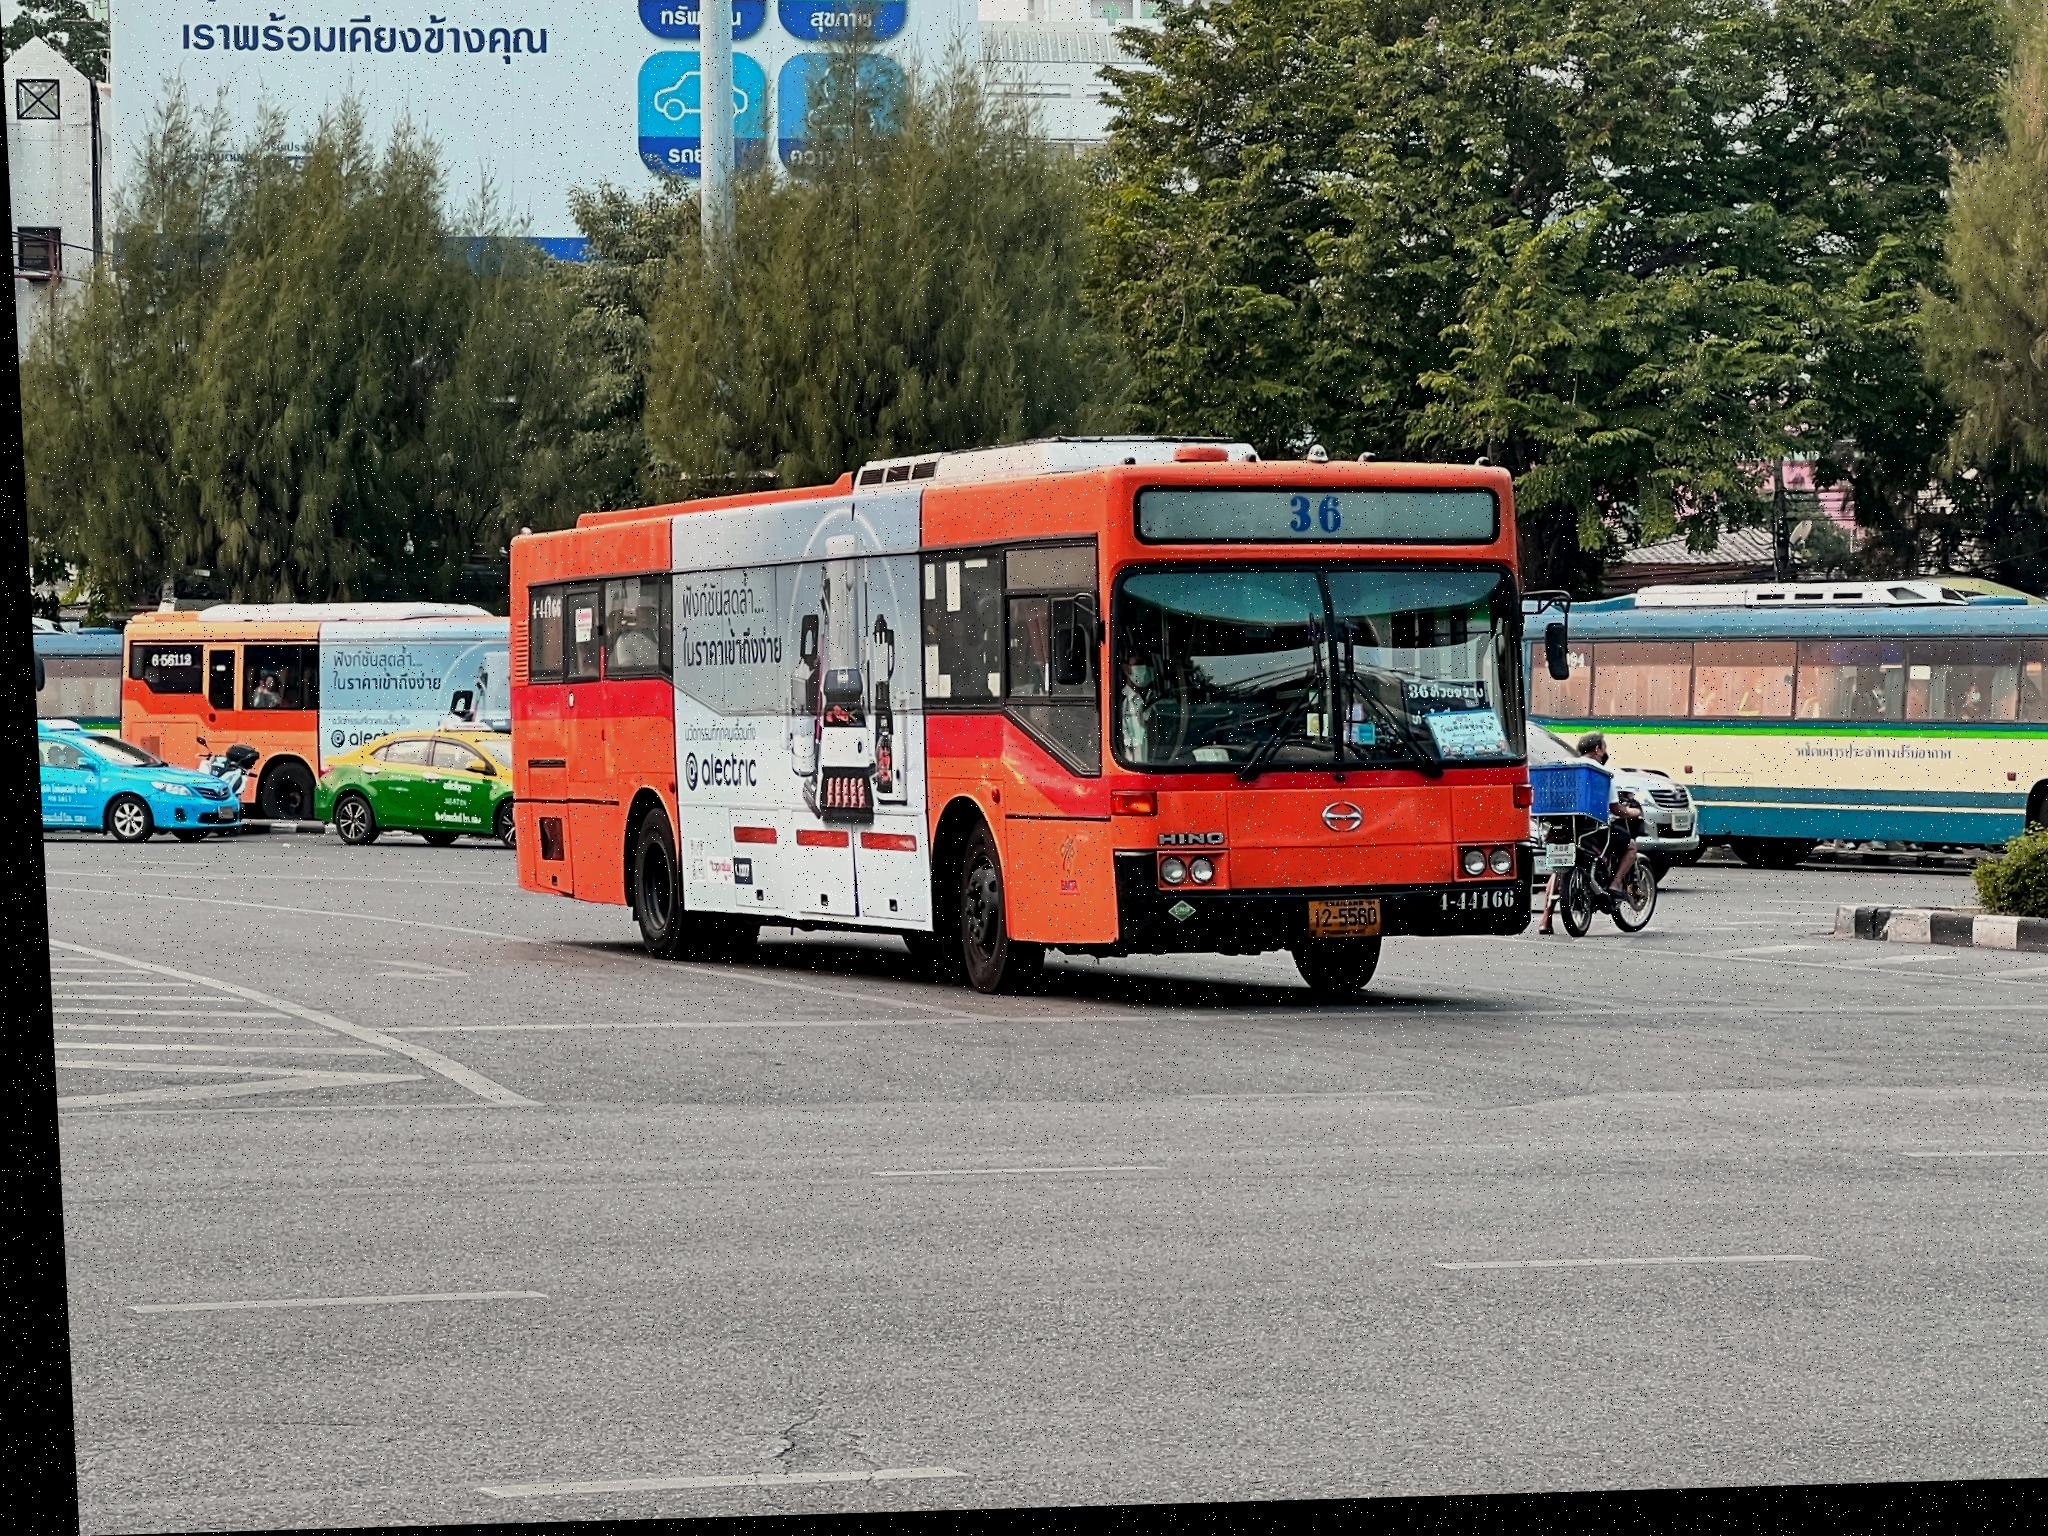BMTA-bus: (495, 445, 1530, 1012)
Bus Line Number: (1268, 492, 1350, 558)
Bus Side Number: (1417, 889, 1506, 921), (519, 595, 561, 628)
Destination Sign: (1392, 689, 1480, 736)
